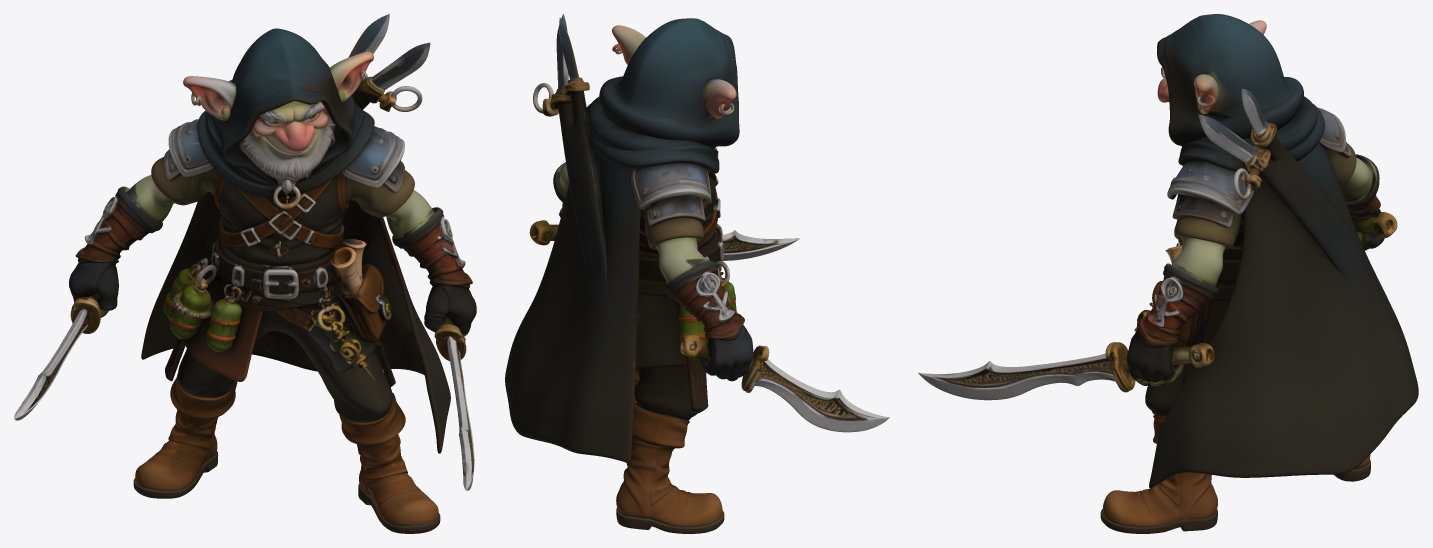
File: gnome_rogue_full_male_01.glb
The picture shows the model from 3 angles, left to right: view 1: azimuth 30°, elevation 25°; view 2: azimuth 150°, elevation 25°; view 3: azimuth 270°, elevation 25°; orthographic projection. The views are drawn at different scales.
Parts seen in each view (by area): view 1: material; view 2: material; view 3: material.
Boxes of the visible parts, bbox=[...] form: material: bbox=[14, 14, 476, 533]; material: bbox=[505, 14, 889, 533]; material: bbox=[918, 14, 1418, 533].
Size of the model in its own units: 0.8603 by 0.9479 by 0.9215.
1 material, 1 textured.
